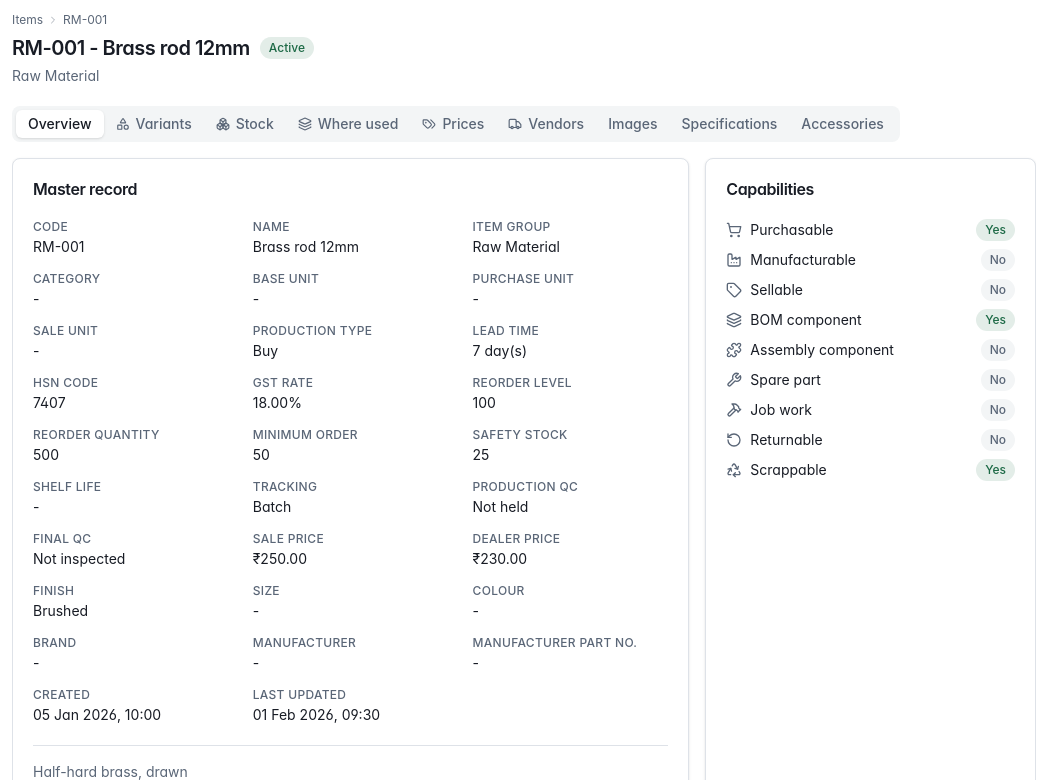
Scenario: the tab panels › lists the parents an item is used in, each a link to its own record
Expected: the heading "RM-001 - Brass rod 12mm" is shown, top-left (12, 34), bottom-right (250, 62)
Click the tab "Where used" at (348, 124), box top-left (286, 110), bottom-right (410, 138)
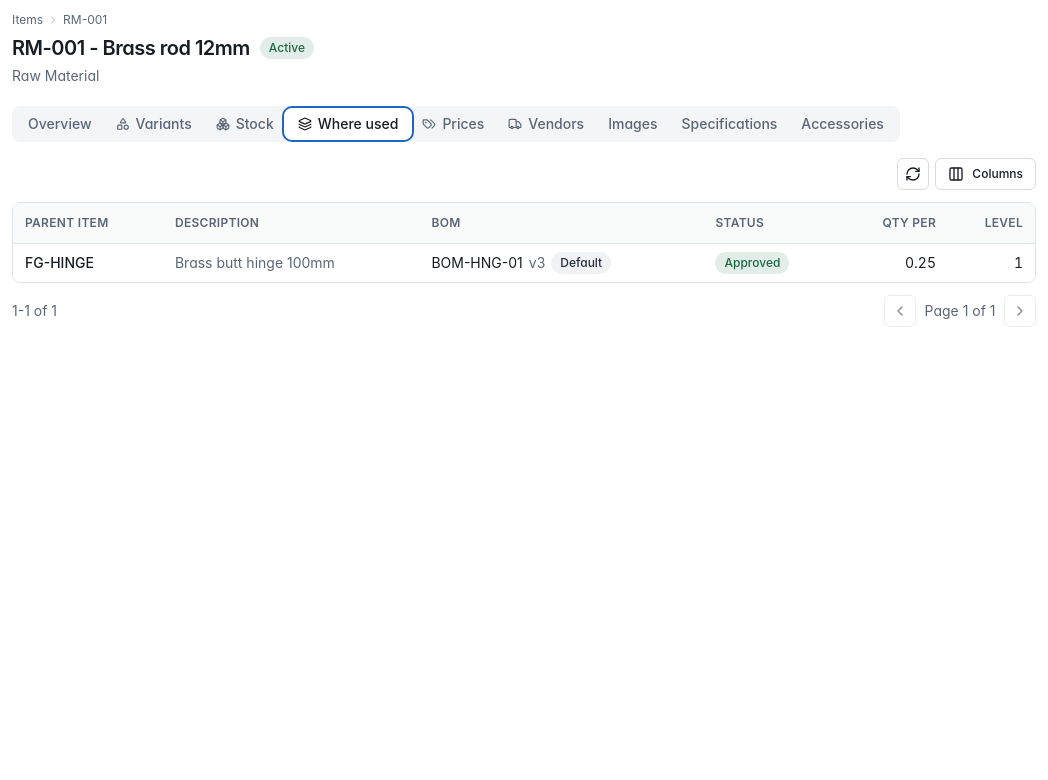
Expected: the text "0.25" is shown, top-left (840, 243), bottom-right (948, 282)
